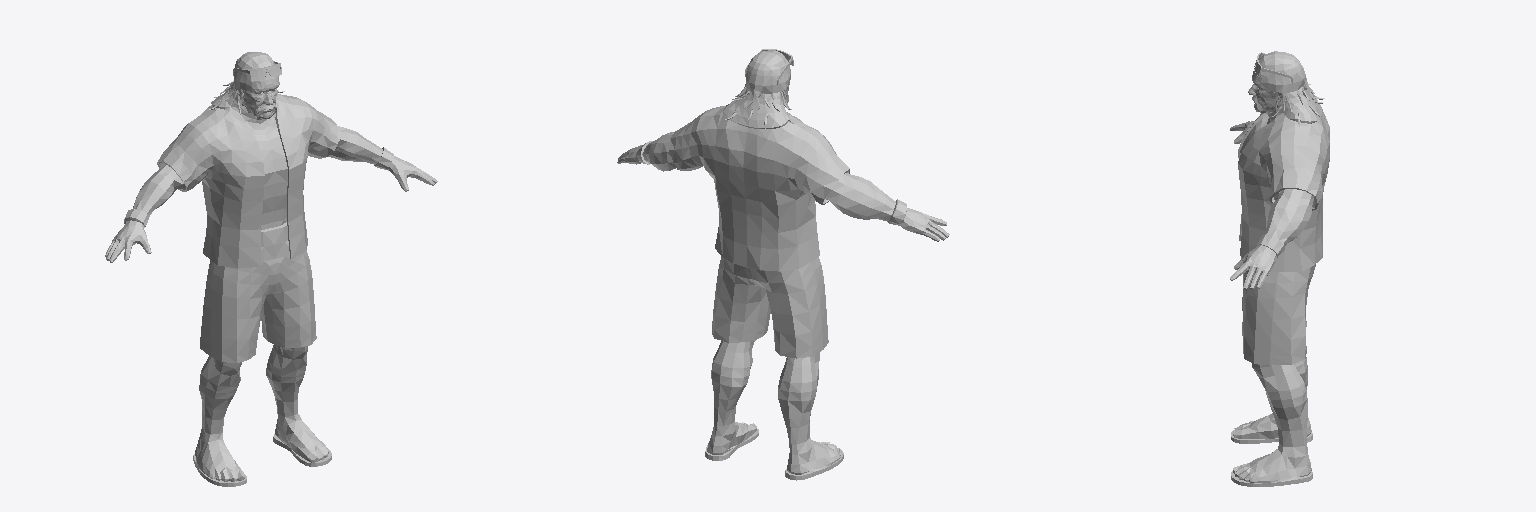
The model's file is Hulk_Hogan_Beach_Basher.obj.
3 views of the same model, side by side, from view 1: azimuth 30°, elevation 25°; view 2: azimuth 150°, elevation 25°; view 3: azimuth 270°, elevation 25° (orthographic).
Bounding box in the file's own units: 1.71 × 2.01 × 0.454.